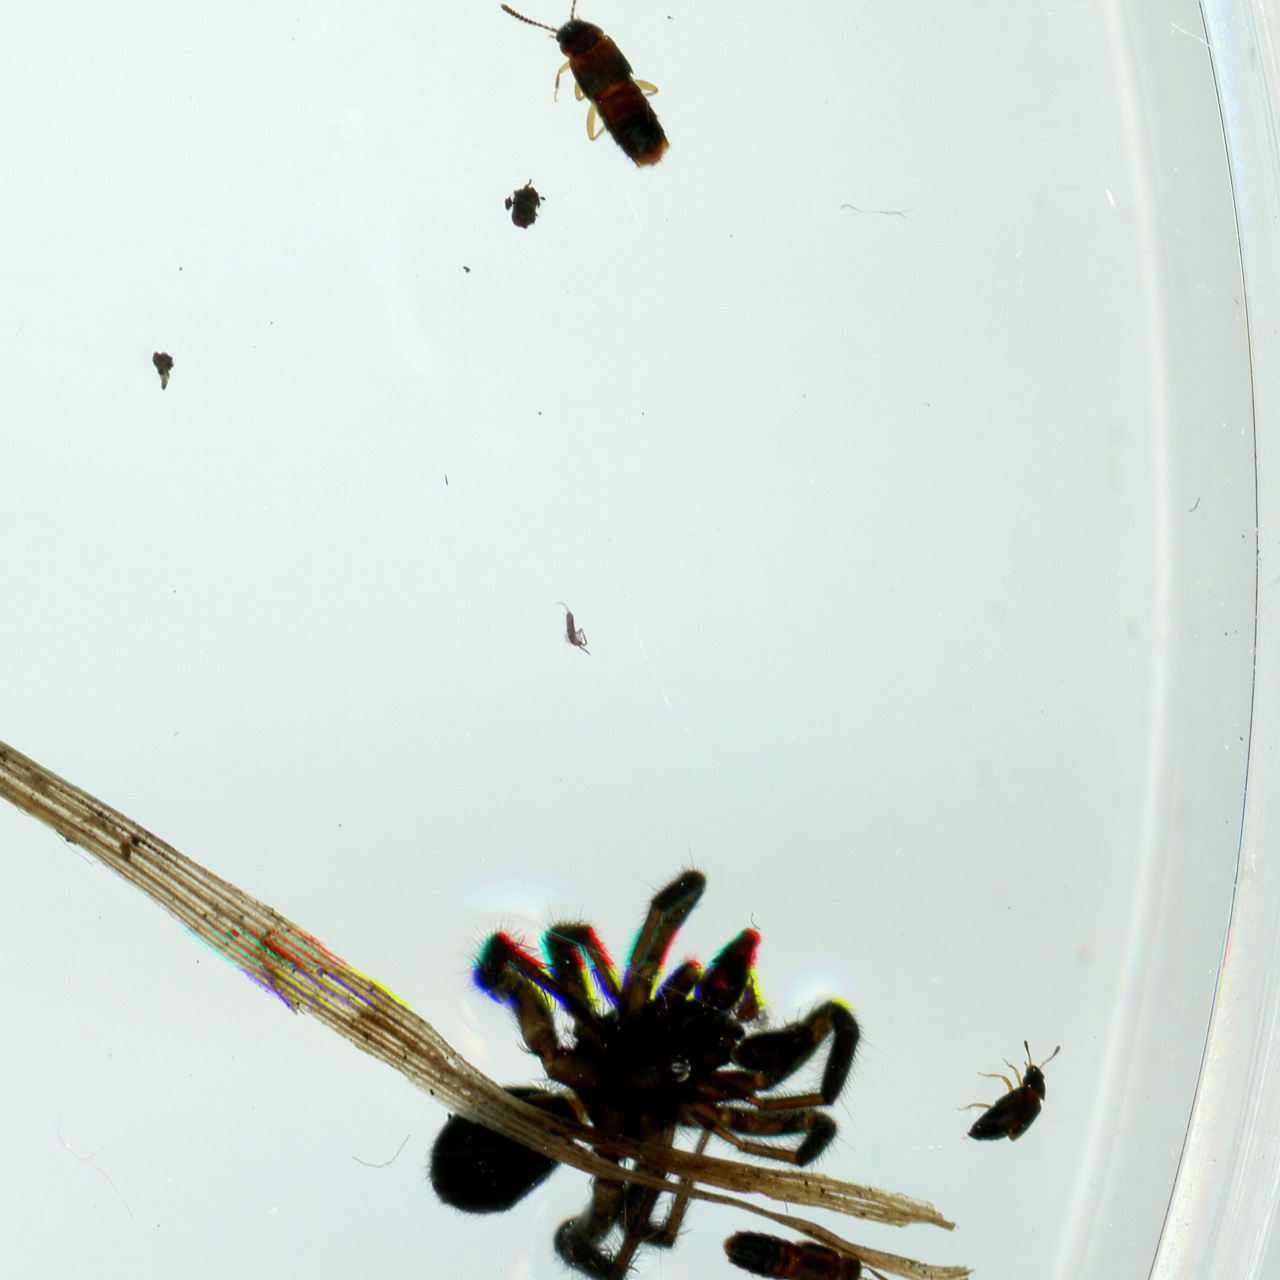arthropod: (405, 836, 878, 1280), (475, 0, 724, 213), (950, 1030, 1068, 1154), (713, 1220, 921, 1280), (539, 576, 607, 662)
